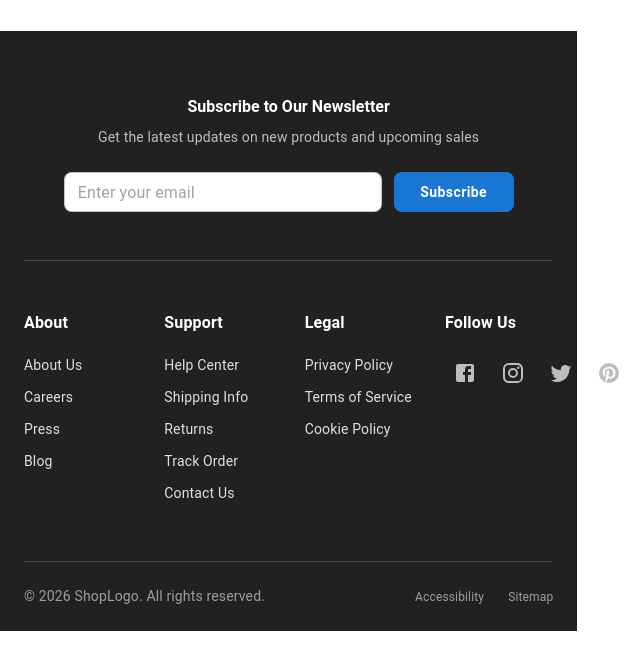
Test: Footer › shows success message on valid submission
The width and height of the screenshot is (636, 663).
Type "test@example.com" into the field labelled "Enter your email" at point(223, 192), box [64,172,382,212]
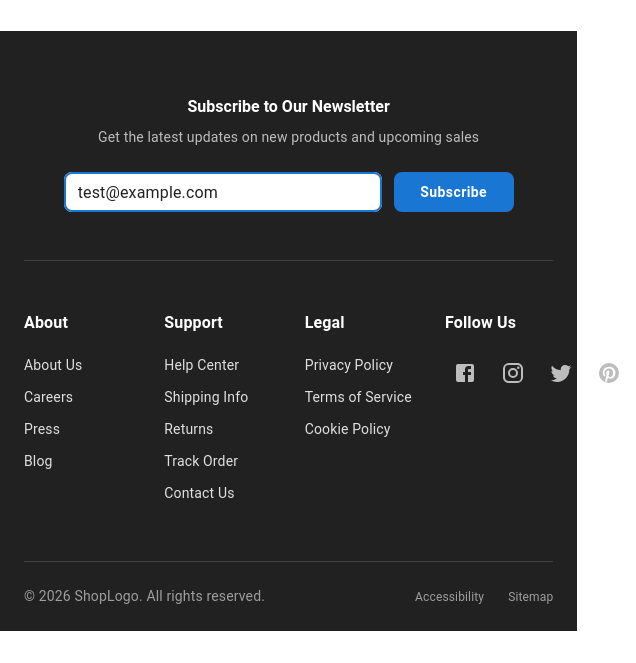
Click the button "Subscribe" at point(454, 192), box [394,172,514,212]
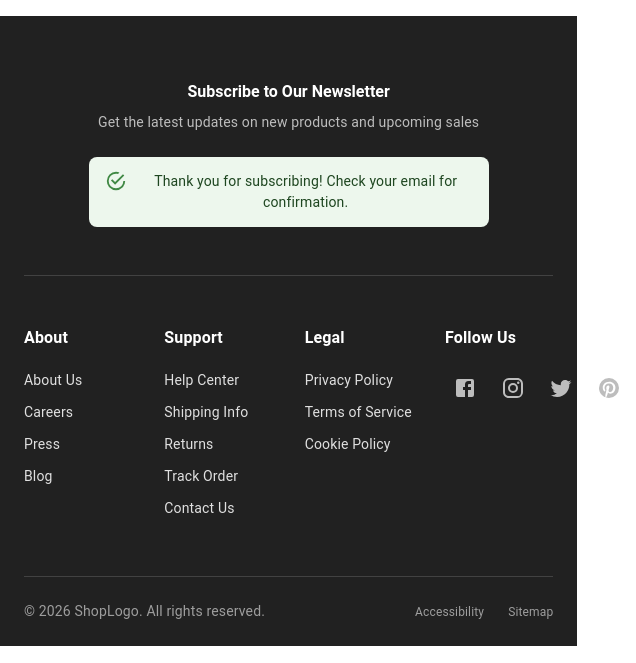
Expected: the text "Thank you" is shown, [154,173,457,210]
